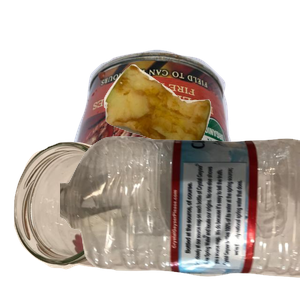glass: (11, 139, 179, 300)
metal: (62, 47, 300, 227)
plastic: (60, 134, 300, 300)
trash: (101, 62, 300, 217)
